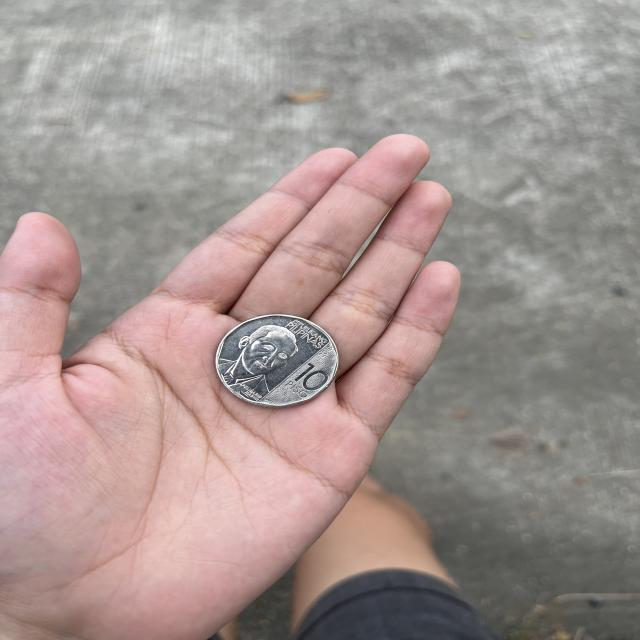10_New_Front: (284, 358, 328, 404)
